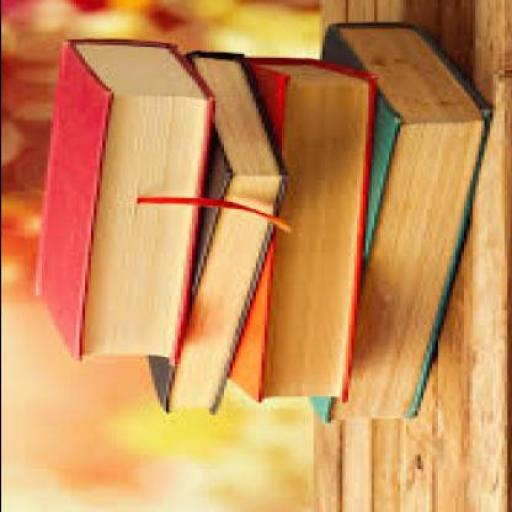paper: (310, 24, 492, 425), (32, 40, 208, 367), (226, 60, 376, 406), (142, 54, 283, 416)
